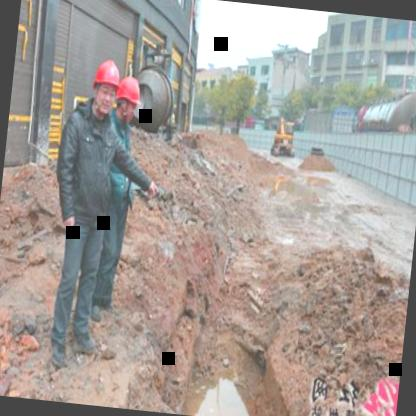helmet: (88, 56, 122, 117), (112, 74, 141, 126)
